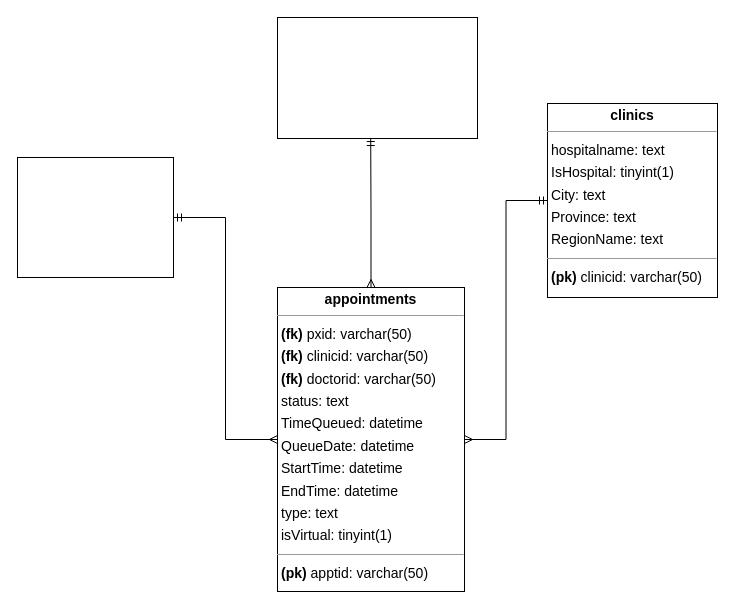
Image size: 735x609. Some labels were removed from this diagram. The box of each missing label's shape, as (x1, y1, x2, y2) in pixels:
doctors mainspecialty: text age: int (pk) doctorid: varchar(50): (276, 16, 478, 138)
px age: int gender: text (pk) pxid: varchar(50): (16, 156, 174, 278)
